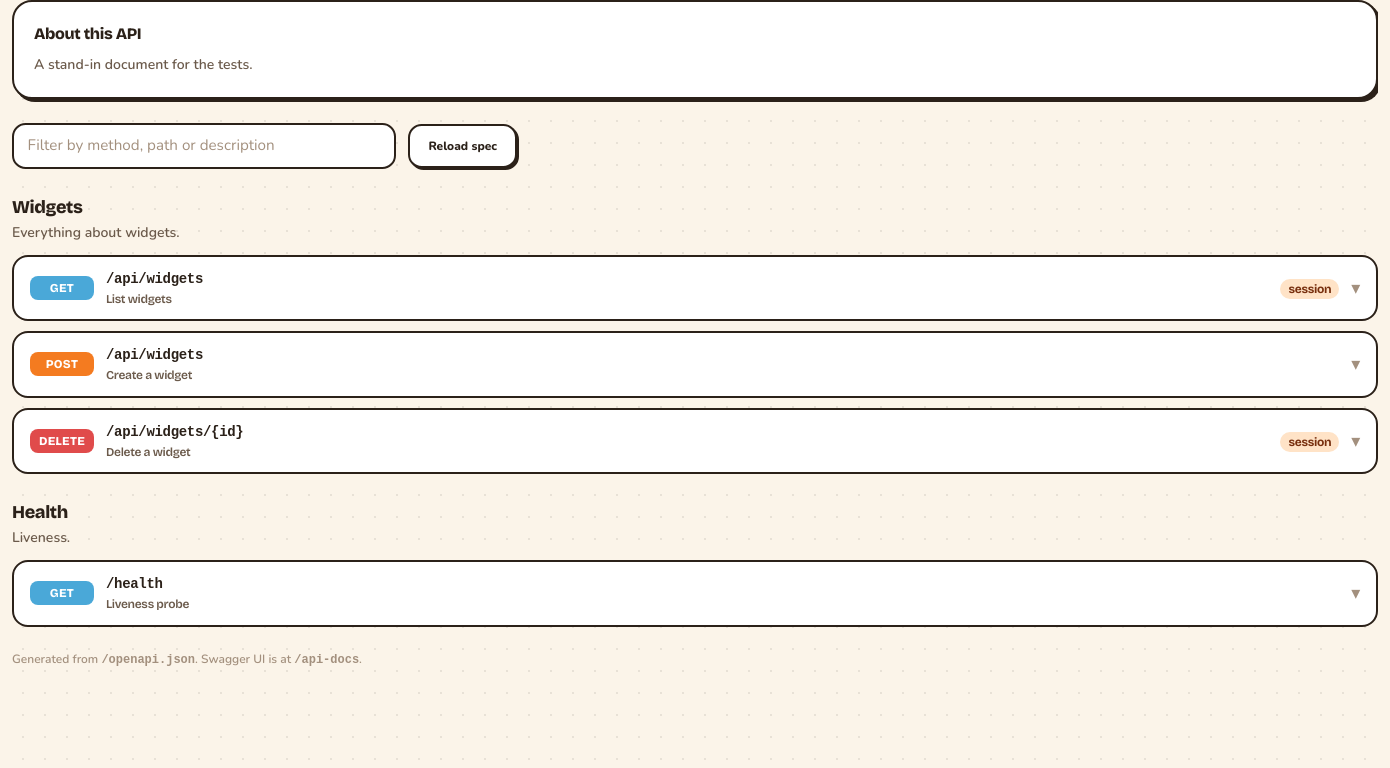
Test case: the endpoint list › filters by term and keeps a group only while something in it matches
The width and height of the screenshot is (1390, 768).
Expected: the heading "Widgets" is shown, [12,196,82,218]
Type "delete" into the search field named "Filter endpoints" at (204, 146), box [12,123,396,169]
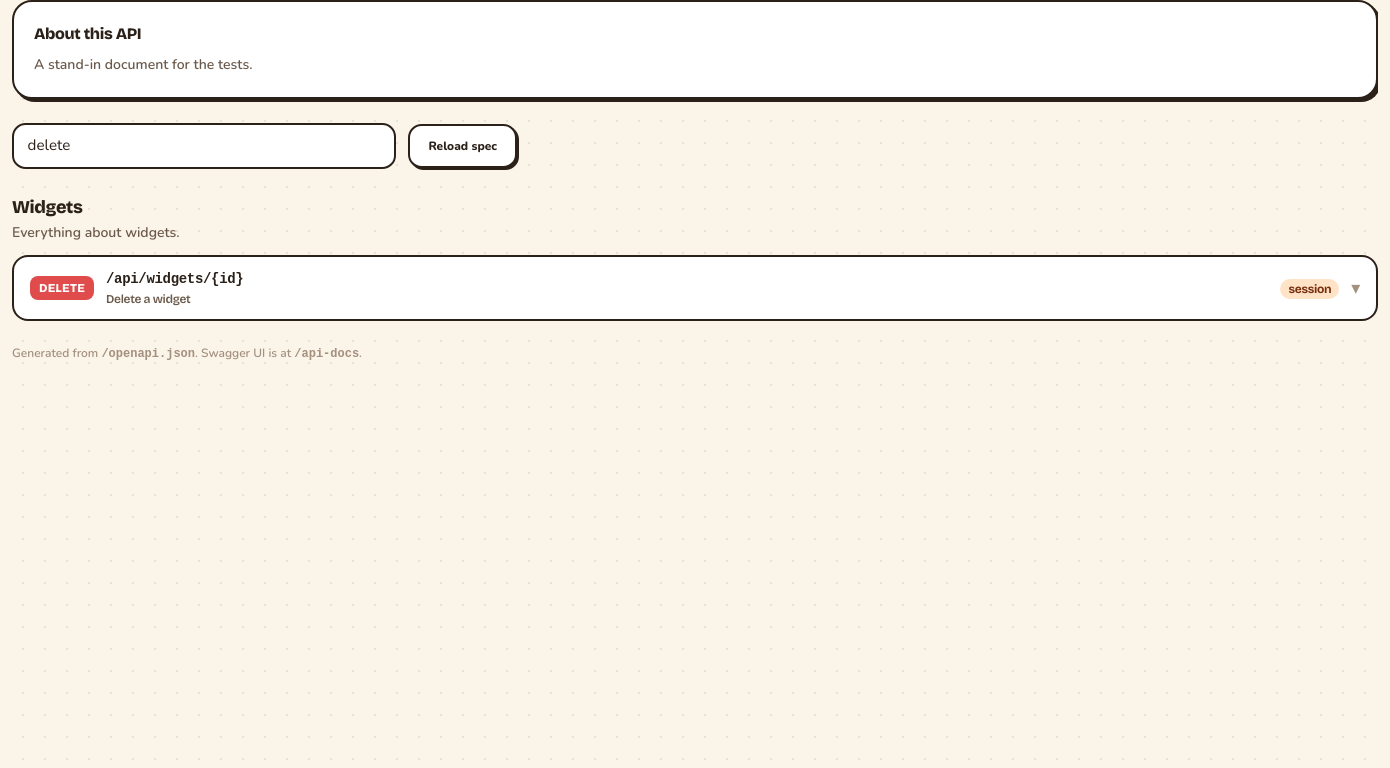
Expected: the text "/api/widgets/{id}" is shown, [106,271,243,287]
Expected: the heading "Health" is gone
Expected: the button "/health" is gone
